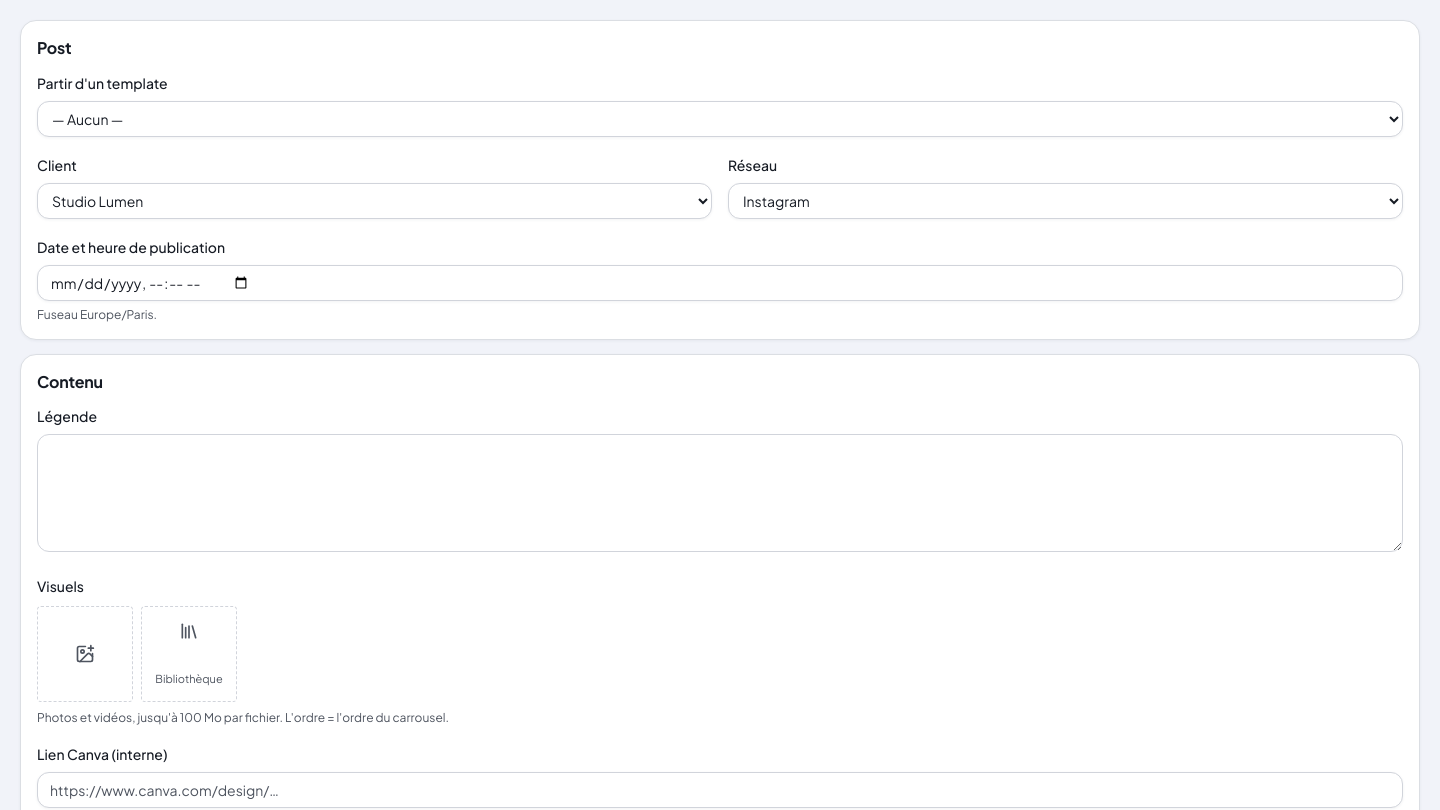
Test case: PostForm › « Partir d'un template » pré-remplit réseau et légende
Select "Citation lundi" in the dropdown labelled "Partir d'un template" at (720, 119), box [37, 101, 1403, 137]
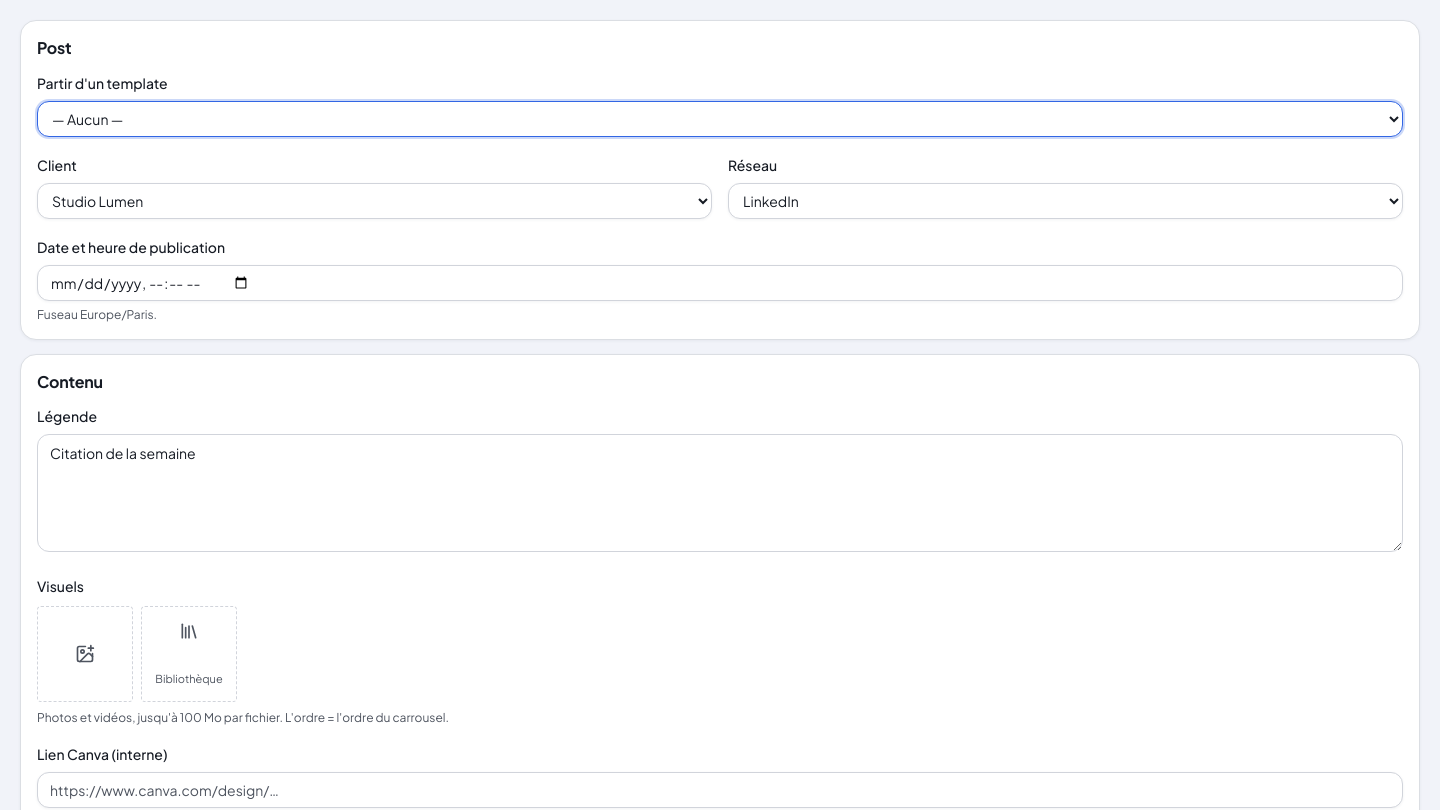
Expected: the text box labelled "Légende" holds "Citation de la semaine", [37, 434, 1403, 552]
Expected: the dropdown labelled "Réseau" shows "LinkedIn", [728, 183, 1403, 219]
